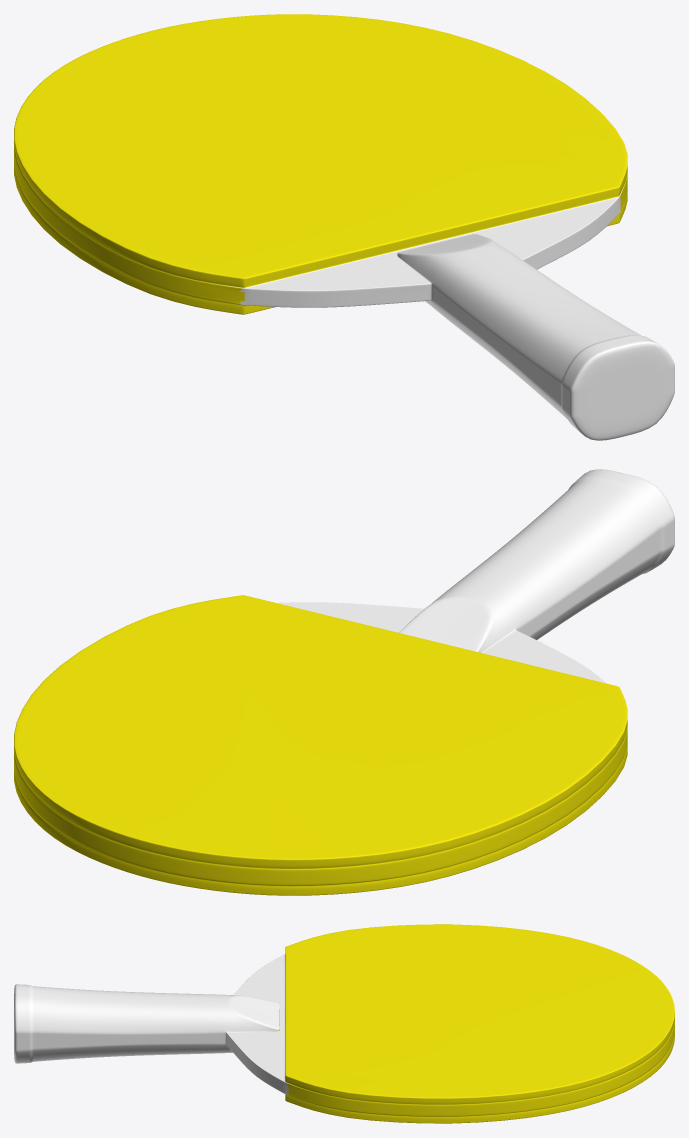
Rendered from Racket2.obj.
3 renders of one model, top to bottom at view 1: azimuth 30°, elevation 25°; view 2: azimuth 150°, elevation 25°; view 3: azimuth 270°, elevation 25°, orthographic. The views are drawn at different scales.
Visible parts, largest first — view 1: racket2; view 2: racket2; view 3: racket2.
Part boxes in pixels (x1=…): racket2: x1=14, y1=14, x2=674, y2=440; racket2: x1=14, y1=469, x2=674, y2=895; racket2: x1=14, y1=924, x2=674, y2=1123.
Size of the model in its own units: 0.1491 by 0.0255 by 0.2396.
Materials: 1 (1 with a texture image).
